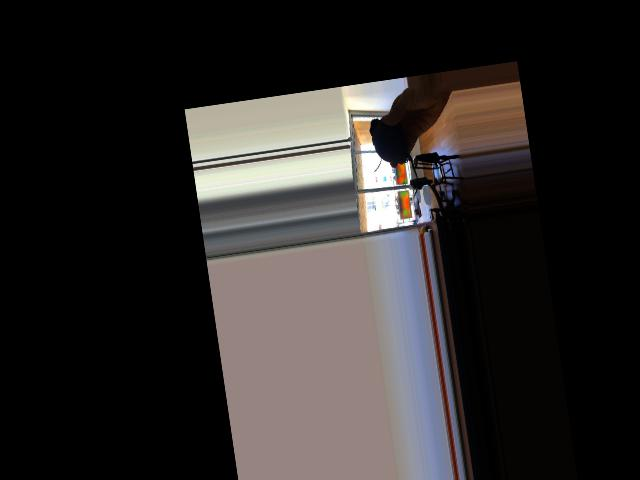beet: (367, 114, 420, 202)
